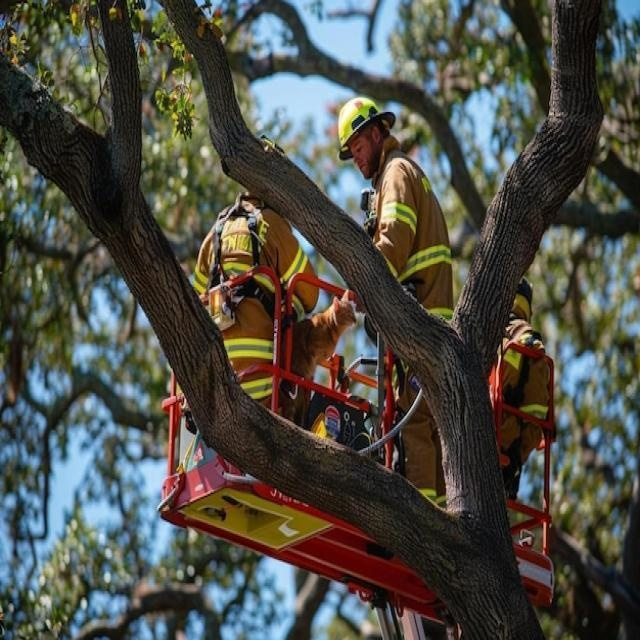Arnes_seguridad: (479, 326, 548, 490), (203, 198, 272, 331)
